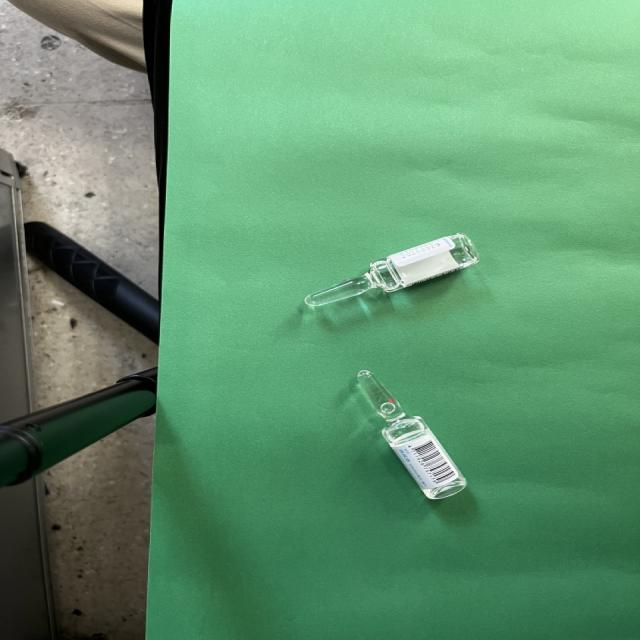Ampoules: (357, 370, 467, 500), (304, 234, 479, 308)
